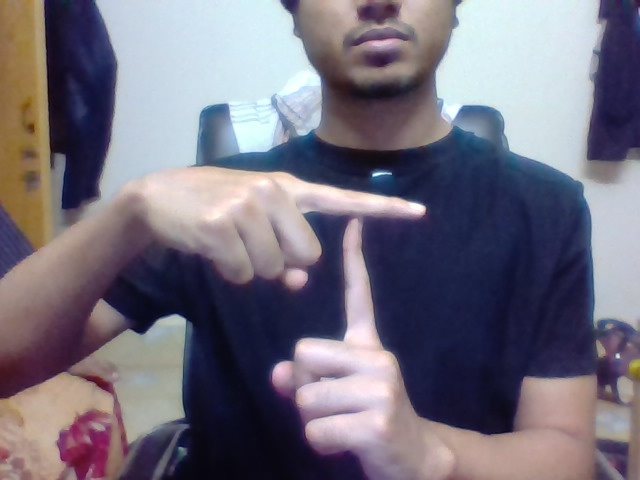T: (323, 178, 441, 324)
